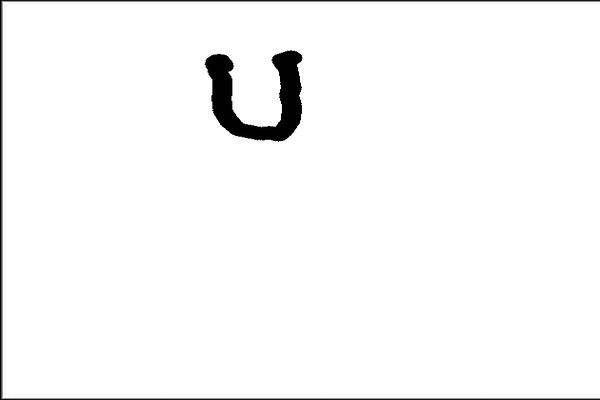U: (198, 38, 316, 141)
